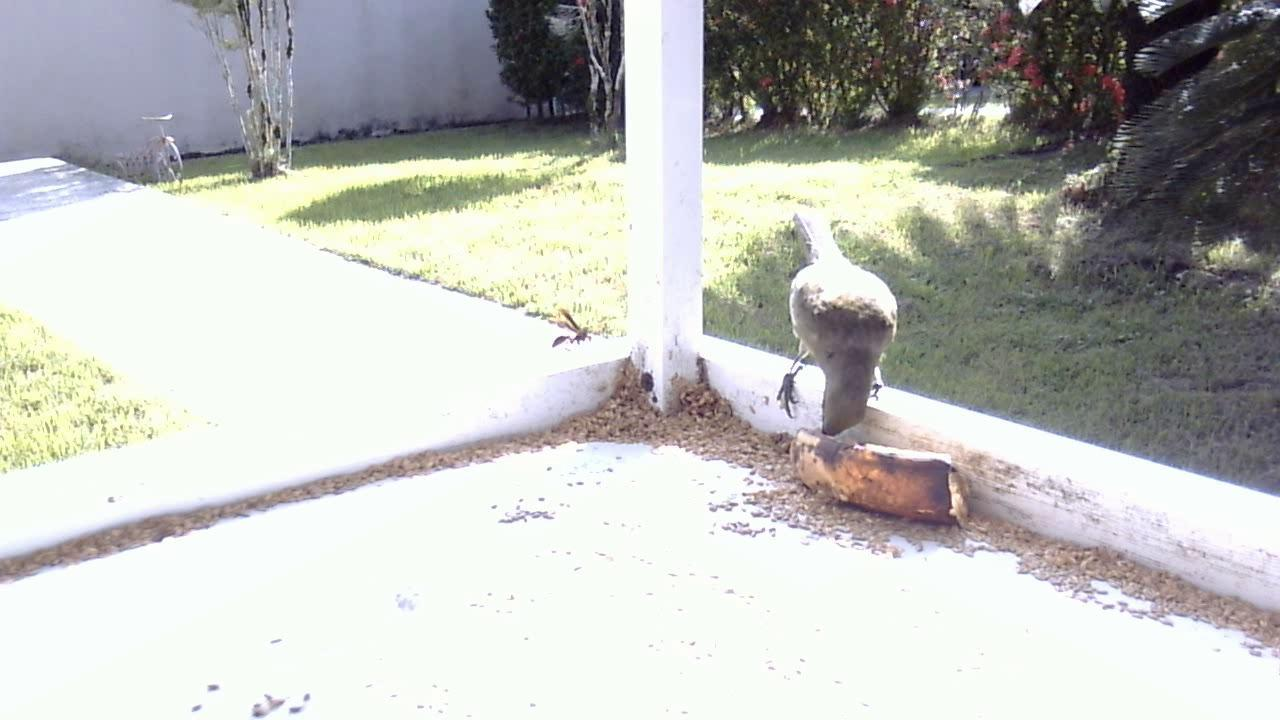sanhaco_do_coqueiro: (770, 200, 909, 437)
